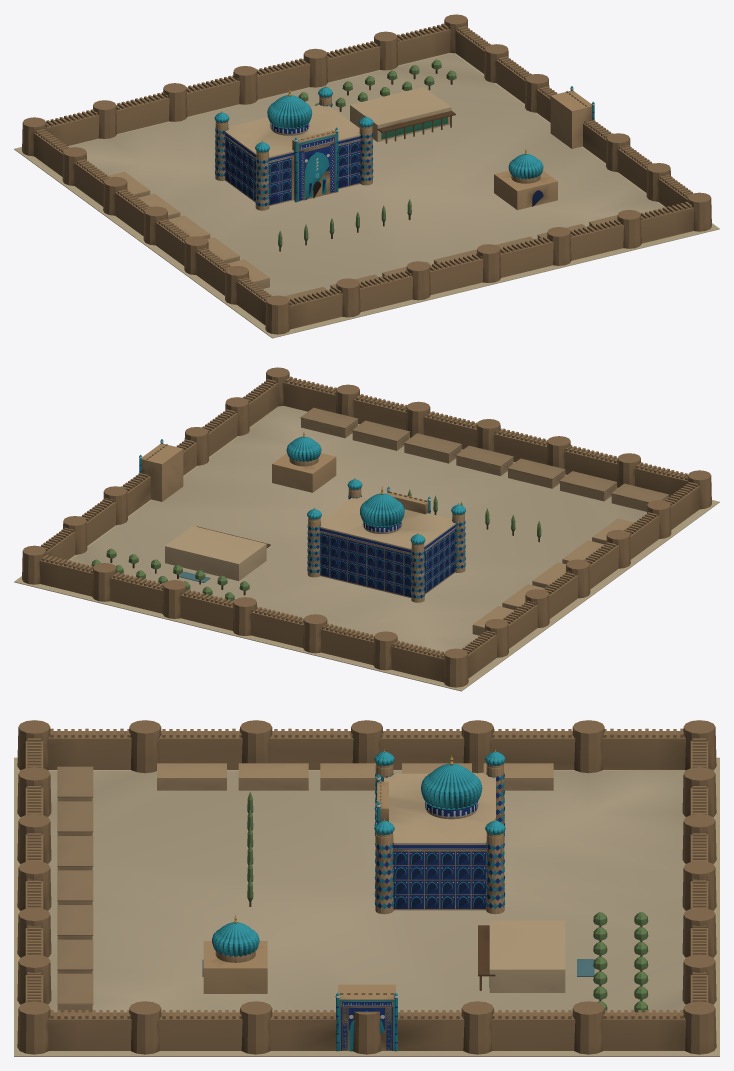
The model's file is kok-saray.glb.
The picture shows the model from 3 angles, top to bottom: view 1: azimuth 30°, elevation 25°; view 2: azimuth 150°, elevation 25°; view 3: azimuth 270°, elevation 25°; orthographic projection. The views are drawn at different scales.
Visible parts, largest first — view 1: p0_walls, p1_kok saray, p2_court buildings; view 2: p0_walls, p2_court buildings, p1_kok saray; view 3: p0_walls, p2_court buildings, p1_kok saray.
Part boxes in pixels (box(x1,y1,x2,y2)): p0_walls: box(14, 14, 719, 338); p1_kok saray: box(214, 85, 373, 210); p2_court buildings: box(107, 59, 617, 300); p0_walls: box(14, 367, 719, 691); p2_court buildings: box(91, 407, 669, 635); p1_kok saray: box(307, 478, 465, 602); p0_walls: box(14, 720, 719, 1056); p2_court buildings: box(57, 763, 648, 1012); p1_kok saray: box(374, 748, 505, 914).
Bounding box in the file's own units: 242 × 46.92 × 242.
